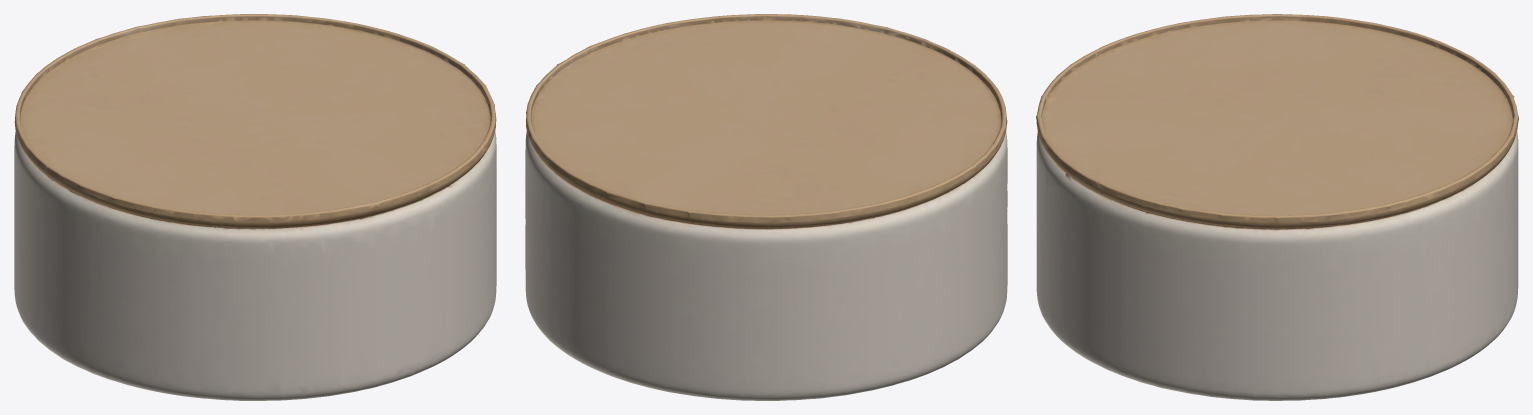
File: caravanafurniture-com-products-lift-top-round-coffee-table-0d9be7.glb
The picture shows the model from 3 angles, left to right: view 1: azimuth 30°, elevation 25°; view 2: azimuth 150°, elevation 25°; view 3: azimuth 270°, elevation 25°; orthographic projection.
Parts seen in each view (by area): view 1: tripo_node_e9c20c4a-d16b-4fdb-bfae-97ec1e1e7032; view 2: tripo_node_e9c20c4a-d16b-4fdb-bfae-97ec1e1e7032; view 3: tripo_node_e9c20c4a-d16b-4fdb-bfae-97ec1e1e7032.
Boxes of the visible parts, x1,y1,x2,y2 form: tripo_node_e9c20c4a-d16b-4fdb-bfae-97ec1e1e7032: [14, 14, 496, 400]; tripo_node_e9c20c4a-d16b-4fdb-bfae-97ec1e1e7032: [525, 14, 1007, 400]; tripo_node_e9c20c4a-d16b-4fdb-bfae-97ec1e1e7032: [1036, 14, 1518, 400].
Bounding box in the file's own units: 1 × 0.4318 × 0.9996.
1 material, 1 textured.
